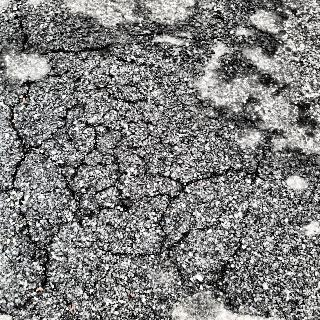alligator-crack: (7, 113, 315, 317), (11, 32, 161, 111)
